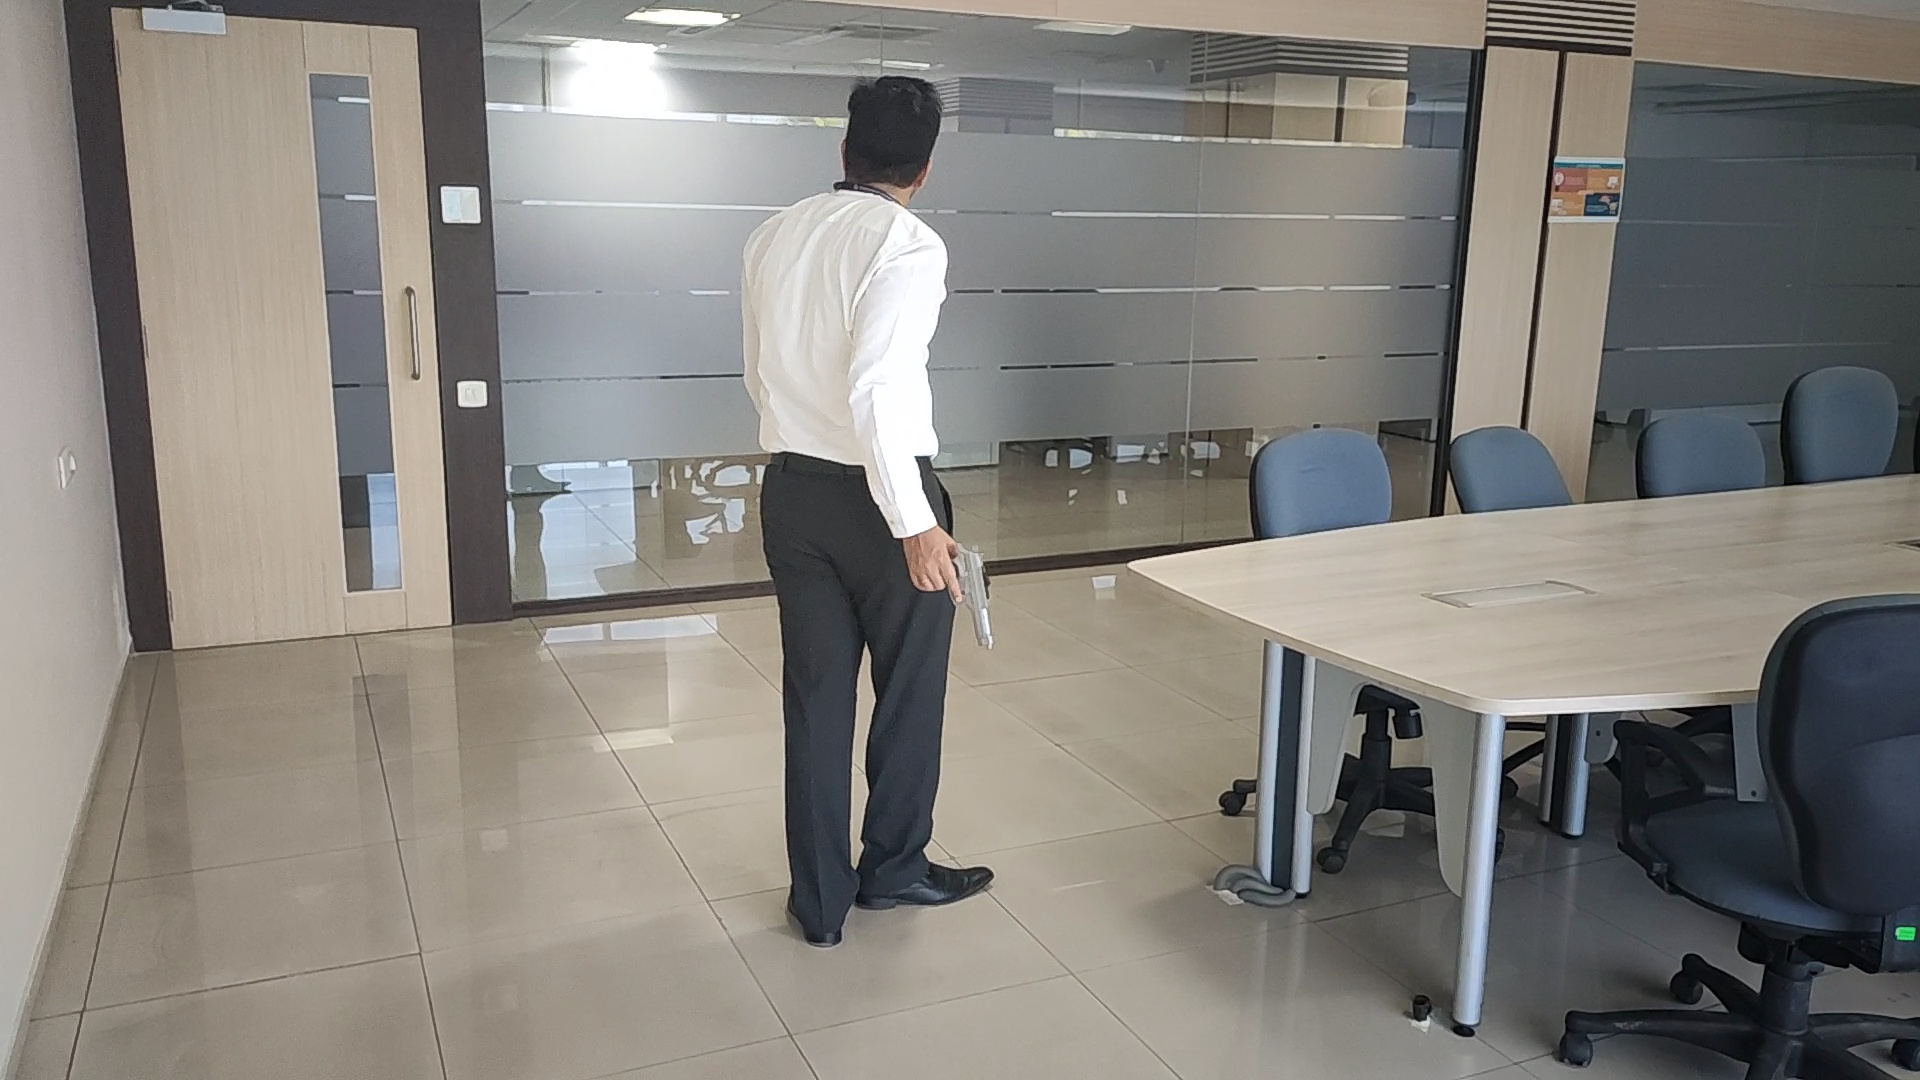gun: (951, 541, 997, 651)
